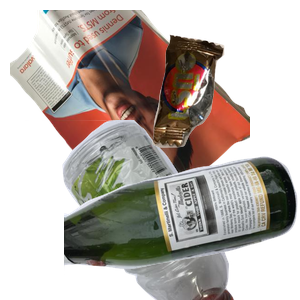glass: (64, 154, 300, 300)
paper: (10, 10, 250, 190)
plastic: (25, 120, 252, 300)
trash: (150, 32, 300, 172)
